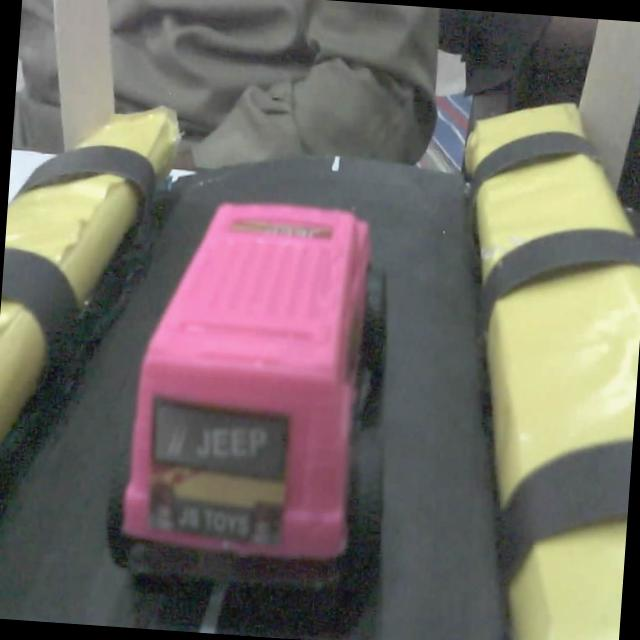OneCar: (88, 178, 434, 598)
